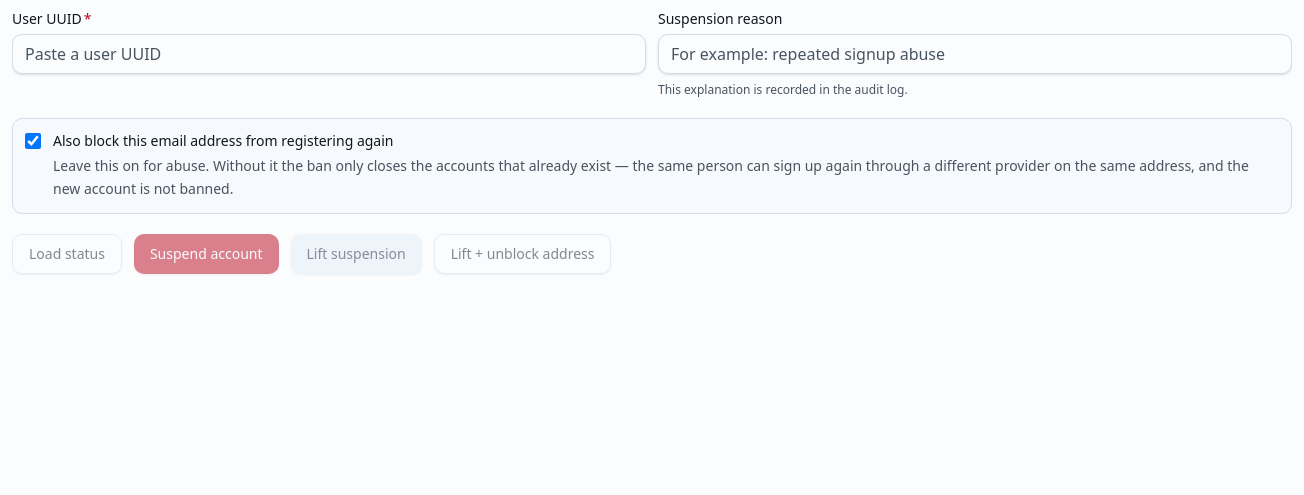
Scenario: BanUserPanel › surfaces live sessions on a suspended account
In the field labelled "User UUID": (329, 54) [12, 34, 646, 74], type "u-1"
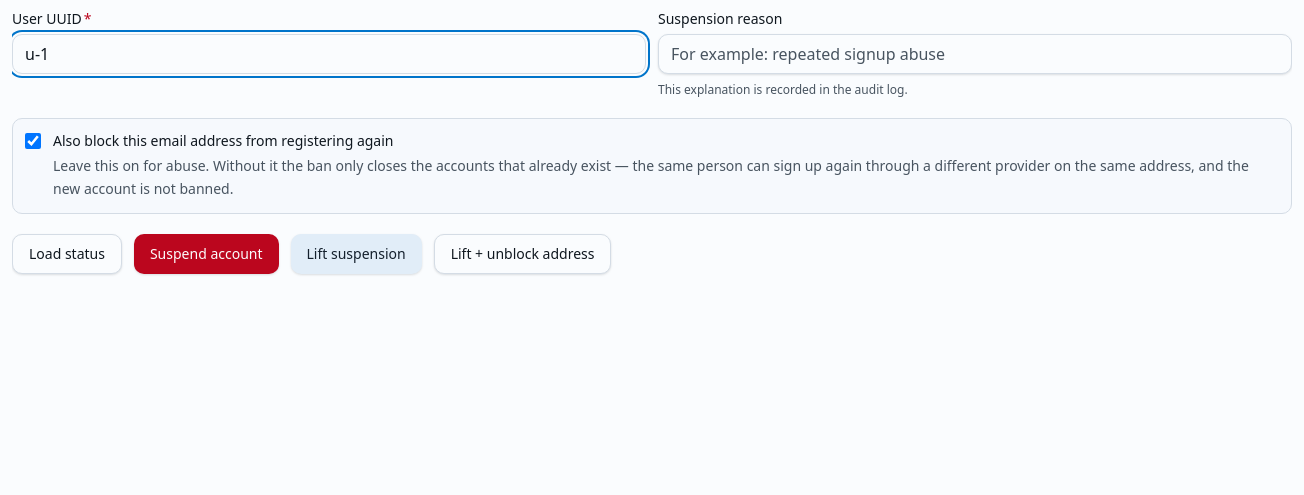
Click the button "Load status": (67, 254) [12, 234, 122, 274]
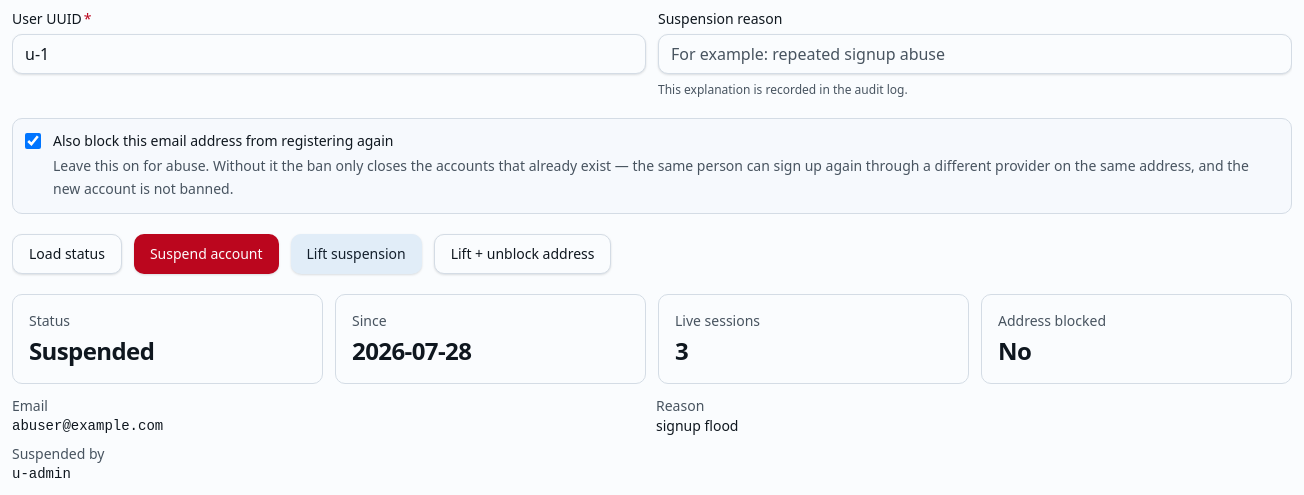
Now the text "Live sessions" is shown, box [675, 310, 760, 330]
Now the text "3" is shown, box [675, 334, 688, 366]
